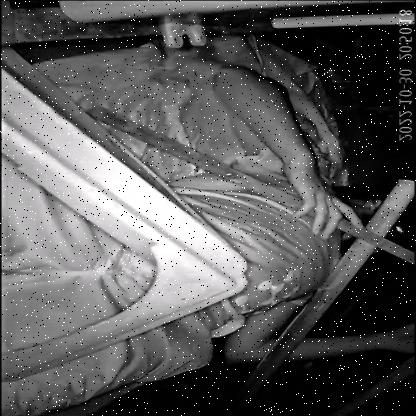hand: (205, 56, 373, 248), (219, 292, 416, 369)
